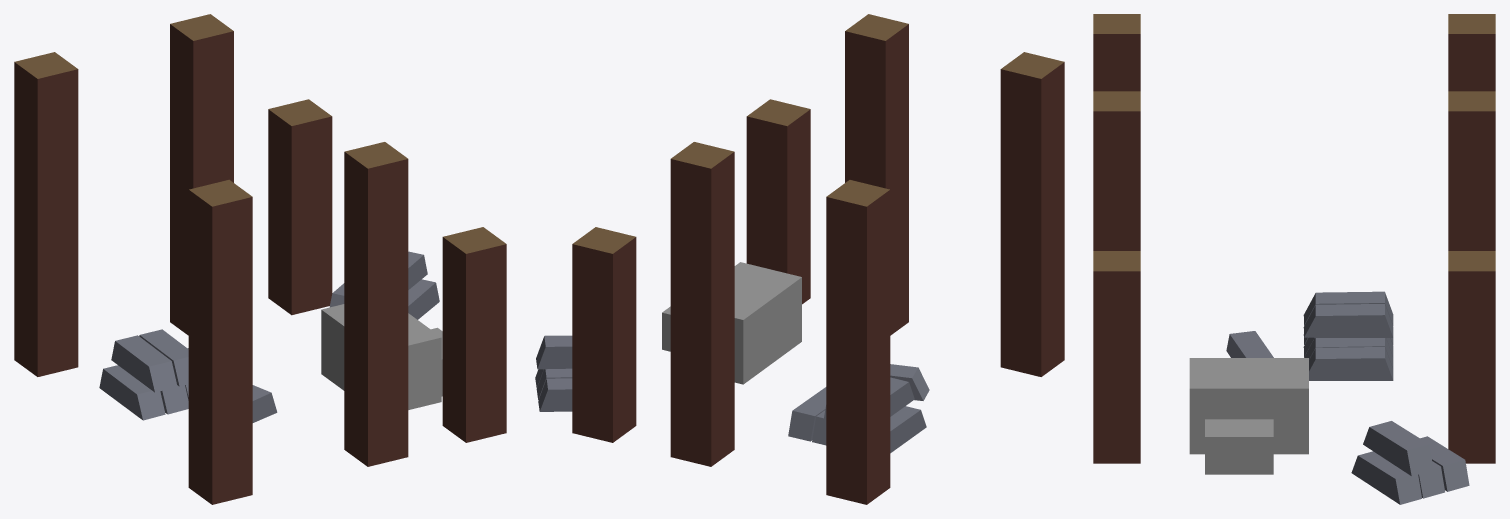
Rendered from house1.fbx.
The picture shows the model from 3 angles, left to right: view 1: azimuth 30°, elevation 25°; view 2: azimuth 150°, elevation 25°; view 3: azimuth 270°, elevation 25°; orthographic projection.
Parts seen in each view (by area): view 1: House1; view 2: House1; view 3: House1.
Boxes of the visible parts, left/top/right/bottom form: House1: left=14, top=14, right=506, bottom=504; House1: left=535, top=14, right=1064, bottom=504; House1: left=1093, top=14, right=1495, bottom=504.
Size of the model in its own units: 786 by 594 by 711.
